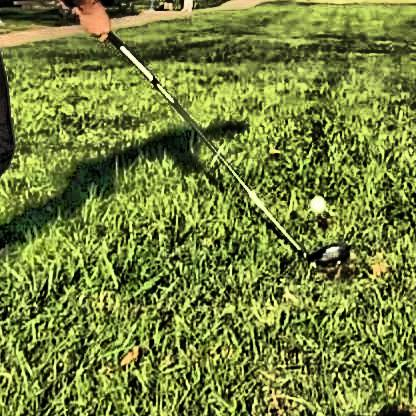golfball: (306, 192, 321, 209)
